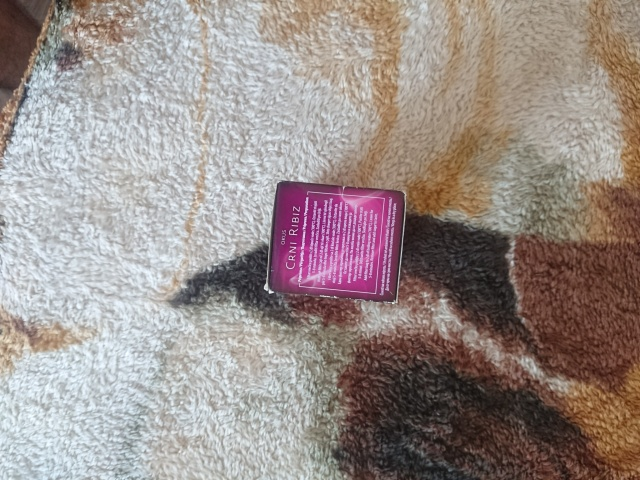Franck Black Currant Tea 60g: (261, 177, 410, 307)
